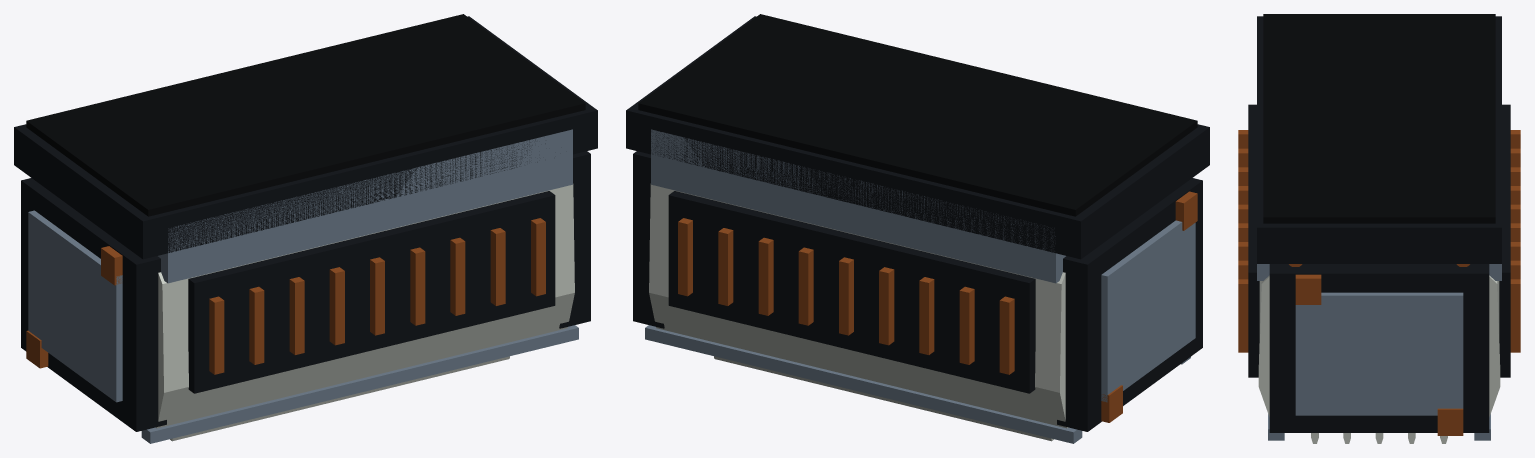
3 views of the same model, side by side, from view 1: azimuth 30°, elevation 25°; view 2: azimuth 150°, elevation 25°; view 3: azimuth 270°, elevation 25° (orthographic). The views are drawn at different scales.
Visible parts, largest first — view 1: mount_rubber_isolator, upper_heat_shield, mount_bulkhead, mount_upper_rib, upper_wedge_armor, side_ridge_-1, side_duct_wall_-1, rear_lip_top, side_duct_wall_1, upper_copper_fin_00, upper_copper_fin_01, upper_copper_fin_03 (+9 smaller); view 2: mount_rubber_isolator, lower_heat_shield, mount_bulkhead, mount_lower_rib, lower_wedge_armor, side_ridge_-1, side_duct_wall_-1, rear_lip_bottom, side_duct_wall_1, lower_copper_fin_00, lower_copper_fin_01, lower_copper_fin_03 (+9 smaller); view 3: mount_rubber_isolator, side_ridge_1, side_duct_wall_1, mount_bulkhead, upper_heat_shield, lower_heat_shield, upper_wedge_armor, lower_wedge_armor, side_front_lock_1, upper_copper_fin_08, lower_copper_fin_08, side_rear_lock_1.
Part boxes in pixels (x1,y1,x2,y2): mount_rubber_isolator: (26,14,585,216); upper_heat_shield: (188,191,555,393); mount_bulkhead: (14,16,597,259); mount_upper_rib: (158,129,572,283); upper_wedge_armor: (156,184,574,428); side_ridge_-1: (28,210,122,402); side_duct_wall_-1: (21,178,166,431); rear_lip_top: (141,325,578,443); side_duct_wall_1: (559,151,590,328); upper_copper_fin_00: (209,296,224,374); upper_copper_fin_01: (249,286,264,364); upper_copper_fin_03: (329,267,344,345); mount_rubber_isolator: (638,14,1197,216); lower_heat_shield: (668,191,1035,393); mount_bulkhead: (626,16,1209,259); mount_lower_rib: (651,129,1065,283); lower_wedge_armor: (649,184,1067,428); side_ridge_-1: (1101,220,1195,402); side_duct_wall_-1: (1057,178,1202,431); rear_lip_bottom: (645,325,1082,443); side_duct_wall_1: (633,151,664,328); lower_copper_fin_00: (999,296,1014,374); lower_copper_fin_01: (959,286,974,364); lower_copper_fin_03: (879,267,894,345); mount_rubber_isolator: (1263,14,1495,223); side_ridge_1: (1295,292,1463,415); side_duct_wall_1: (1269,264,1489,432); mount_bulkhead: (1257,16,1501,263); upper_heat_shield: (1248,104,1259,377); lower_heat_shield: (1499,104,1510,377); upper_wedge_armor: (1258,275,1269,416); lower_wedge_armor: (1489,275,1500,416); side_front_lock_1: (1295,274,1321,304); upper_copper_fin_08: (1238,279,1248,352); lower_copper_fin_08: (1510,279,1520,352); side_rear_lock_1: (1437,408,1463,435).
Bounding box in the file's own units: 1.61 × 0.855 × 0.876.
